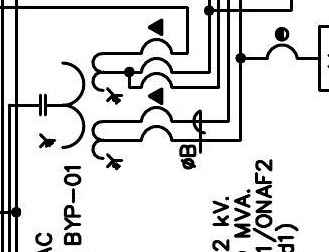115_cvt_3p: (39, 51, 124, 171)
